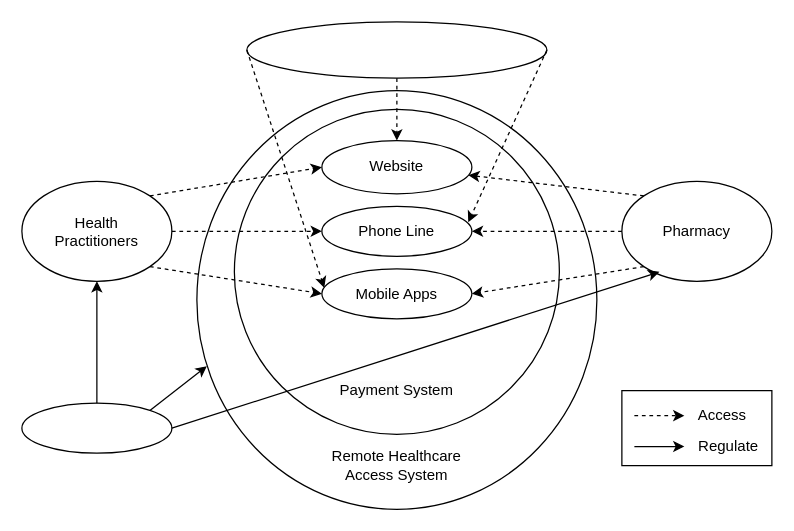
The diagram is 794 pixels wide and 531 high, and some of its shapes have lost their labels. Each missing label, with the centre of its shape:
"Government" goes at pixel 96 427.
"Remote Region Residents" goes at pixel 396 49.
